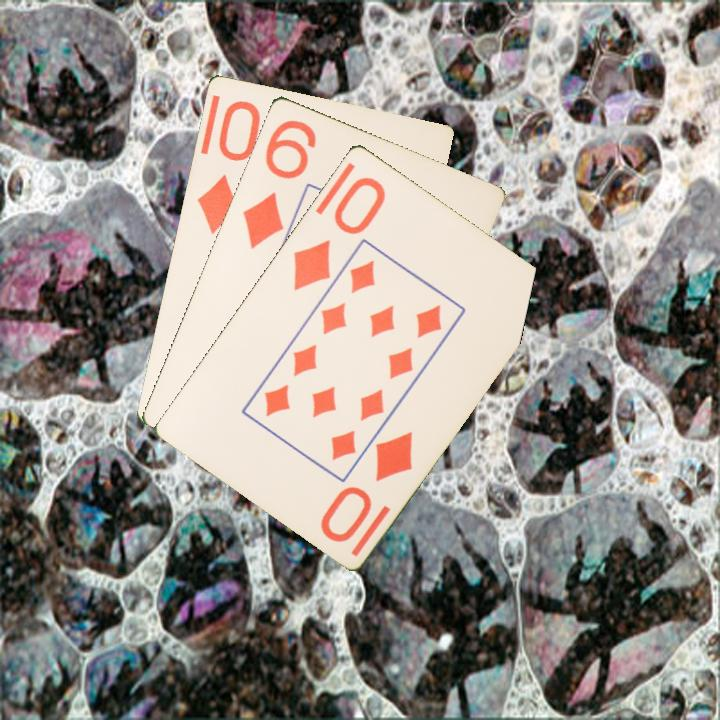10d: (289, 172, 389, 293), (316, 427, 416, 545), (192, 96, 263, 237)
6d: (238, 115, 320, 252)
